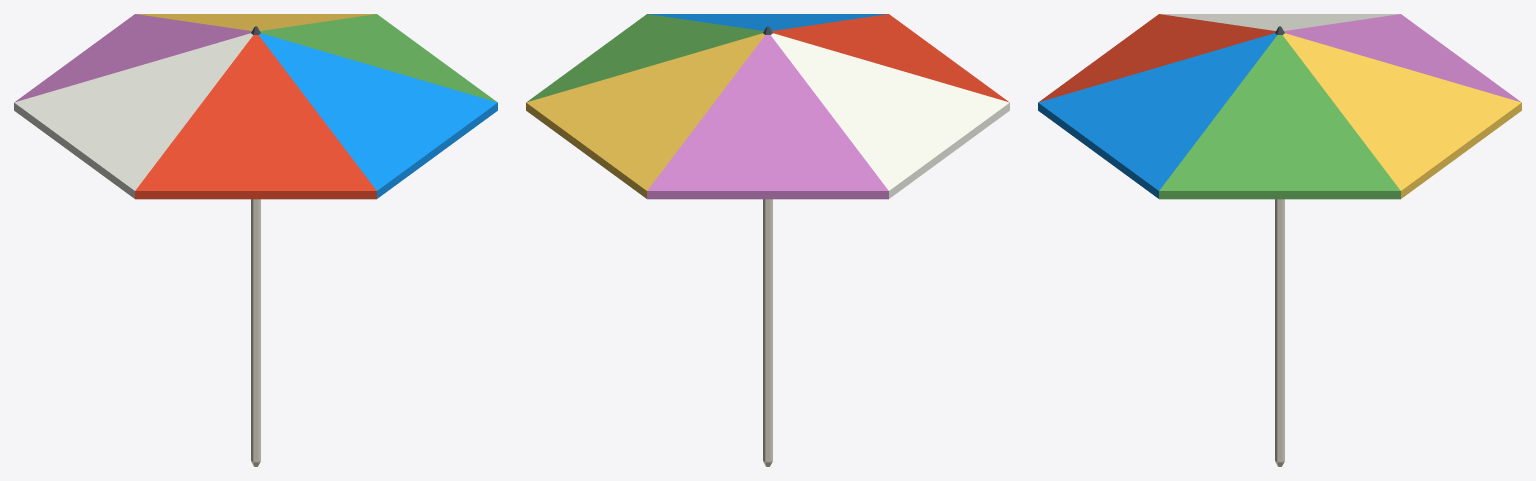
Rendered from CafeUmbrella.fbx.
3 views of the same model, side by side, from view 1: azimuth 30°, elevation 25°; view 2: azimuth 150°, elevation 25°; view 3: azimuth 270°, elevation 25° (orthographic).
Parts seen in each view (by area): view 1: Umbrella_B; view 2: Umbrella_B; view 3: Umbrella_B.
Boxes of the visible parts, x1,y1,x2,y2 form: Umbrella_B: (14,14,497,466); Umbrella_B: (526,14,1009,466); Umbrella_B: (1038,14,1521,466).
Size of the model in its own units: 163 by 188 by 188.
